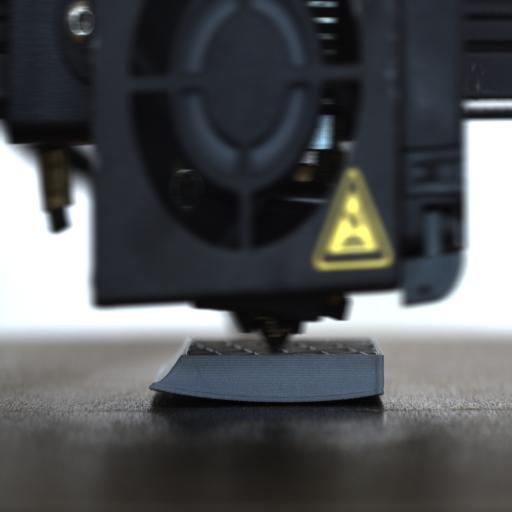warp: (141, 372, 226, 414), (352, 382, 388, 406)
